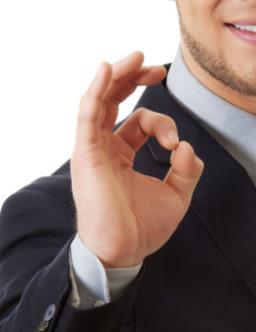left: (67, 49, 206, 263)
